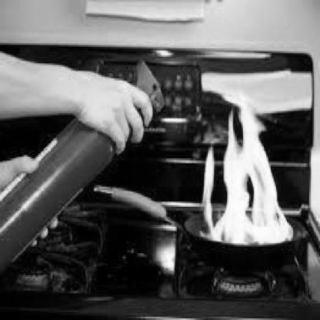Fire: (192, 88, 296, 252)
